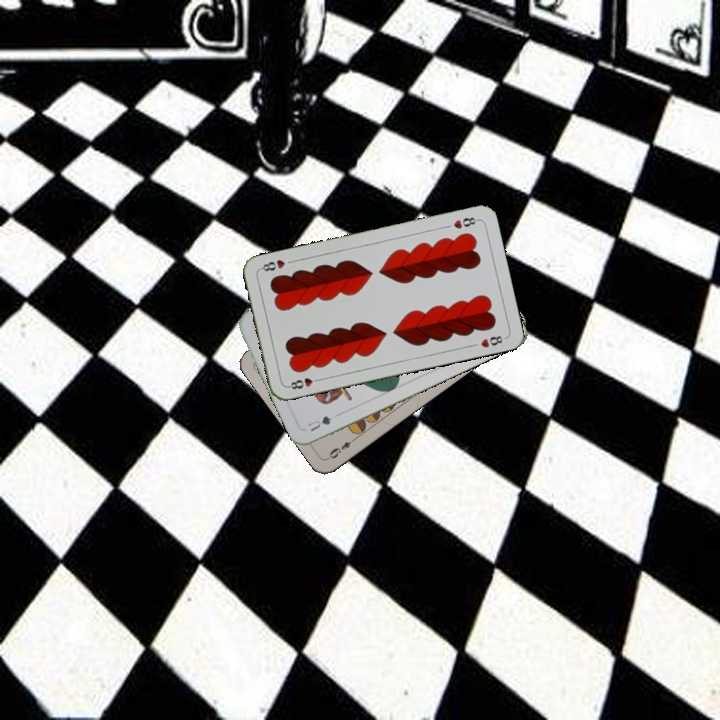E9: (325, 433, 359, 461)
GU: (302, 412, 335, 434)
H8: (284, 374, 324, 392), (449, 213, 481, 231)
